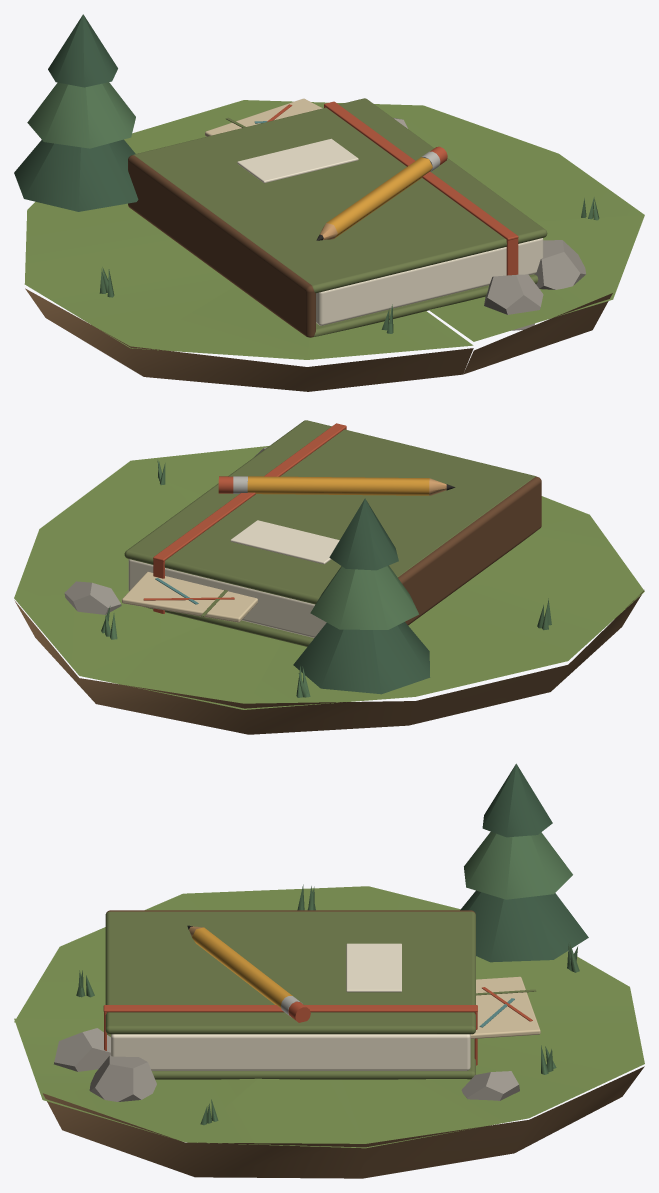
Rendered from stash.glb.
3 views of the same model, one above another, from view 1: azimuth 30°, elevation 25°; view 2: azimuth 150°, elevation 25°; view 3: azimuth 270°, elevation 25° (orthographic). The views are drawn at different scales.
Parts seen in each view (by area): view 1: Notebook (×2); view 2: Notebook (×2); view 3: Notebook (×2).
Part boxes in pixels (bbox=[...]): Notebook (×2): bbox=[14, 14, 644, 391]; Notebook (×2): bbox=[14, 420, 644, 734]; Notebook (×2): bbox=[14, 763, 644, 1178].
Size of the model in its own units: 3.37 by 1.34 by 3.41.
4 materials, 4 textured.
